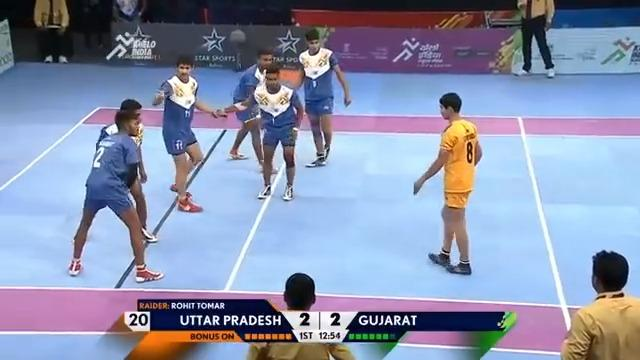Player: (65, 97, 165, 284), (150, 52, 226, 214), (222, 61, 305, 201), (293, 25, 352, 168), (221, 43, 271, 159)
Raider: (411, 90, 486, 277)
referee: (246, 272, 356, 359), (559, 249, 639, 359), (513, 0, 556, 78), (32, 0, 72, 63)
